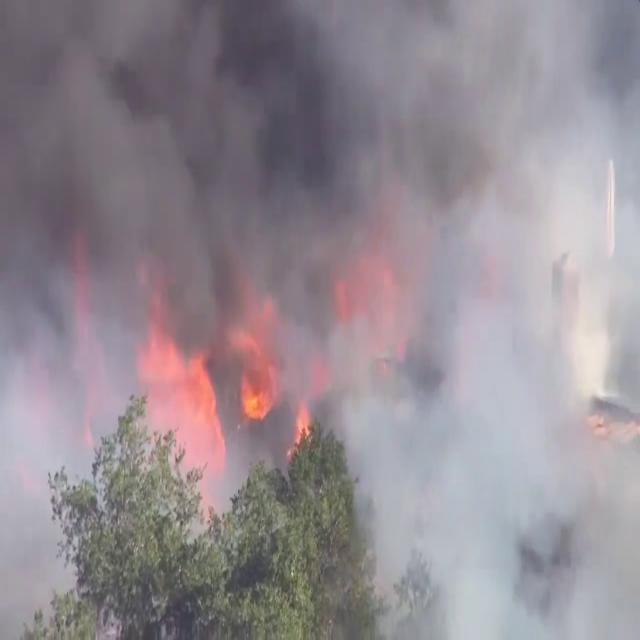Fire: (159, 303, 288, 442)
Smoke: (2, 0, 638, 632)
